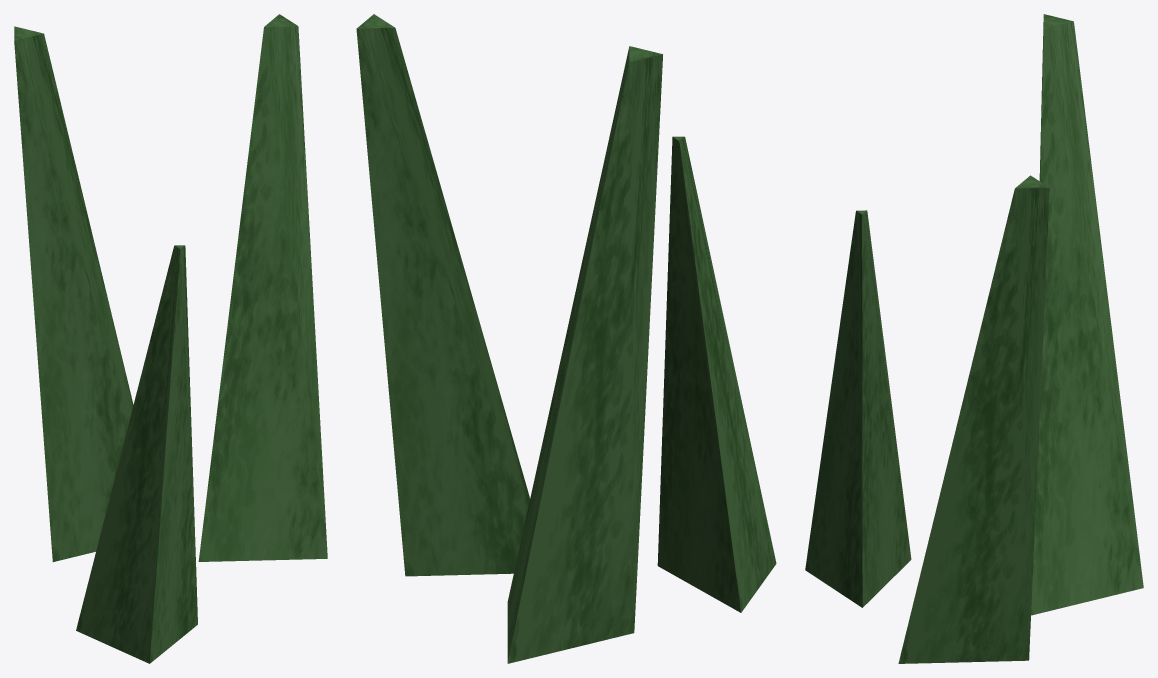
File: grass.fbx
The picture shows the model from 3 angles, left to right: view 1: azimuth 30°, elevation 25°; view 2: azimuth 150°, elevation 25°; view 3: azimuth 270°, elevation 25°; orthographic projection. The views are drawn at different scales.
Parts seen in each view (by area): view 1: Cone.001, Cone, Cone.002; view 2: Cone, Cone.001, Cone.002; view 3: Cone, Cone.001, Cone.002.
Boxes of the visible parts, x1=… form: Cone.001: x1=198, y1=14, x2=327, y2=561; Cone: x1=14, y1=26, x2=133, y2=561; Cone.002: x1=76, y1=245, x2=197, y2=663; Cone: x1=507, y1=46, x2=662, y2=663; Cone.001: x1=356, y1=14, x2=529, y2=576; Cone.002: x1=657, y1=136, x2=776, y2=612; Cone: x1=1031, y1=14, x2=1143, y2=615; Cone.001: x1=898, y1=175, x2=1049, y2=663; Cone.002: x1=805, y1=210, x2=911, y2=607.
Size of the model in its own units: 127 by 240 by 134.
